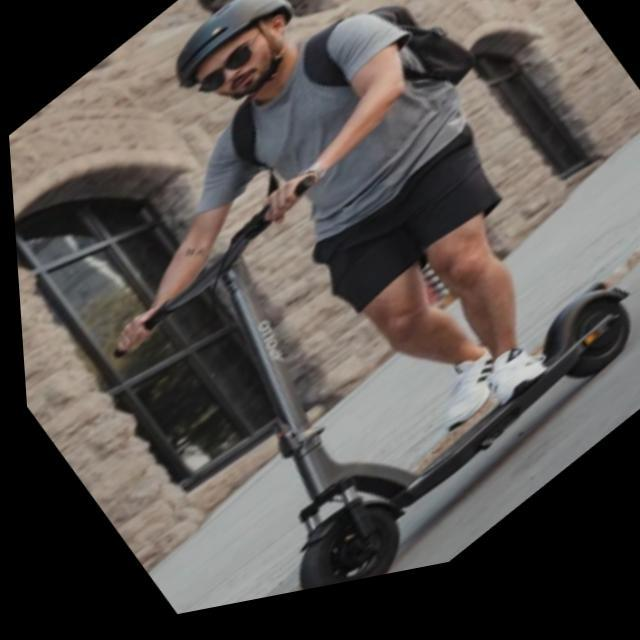Helmet: (164, 0, 307, 112)
